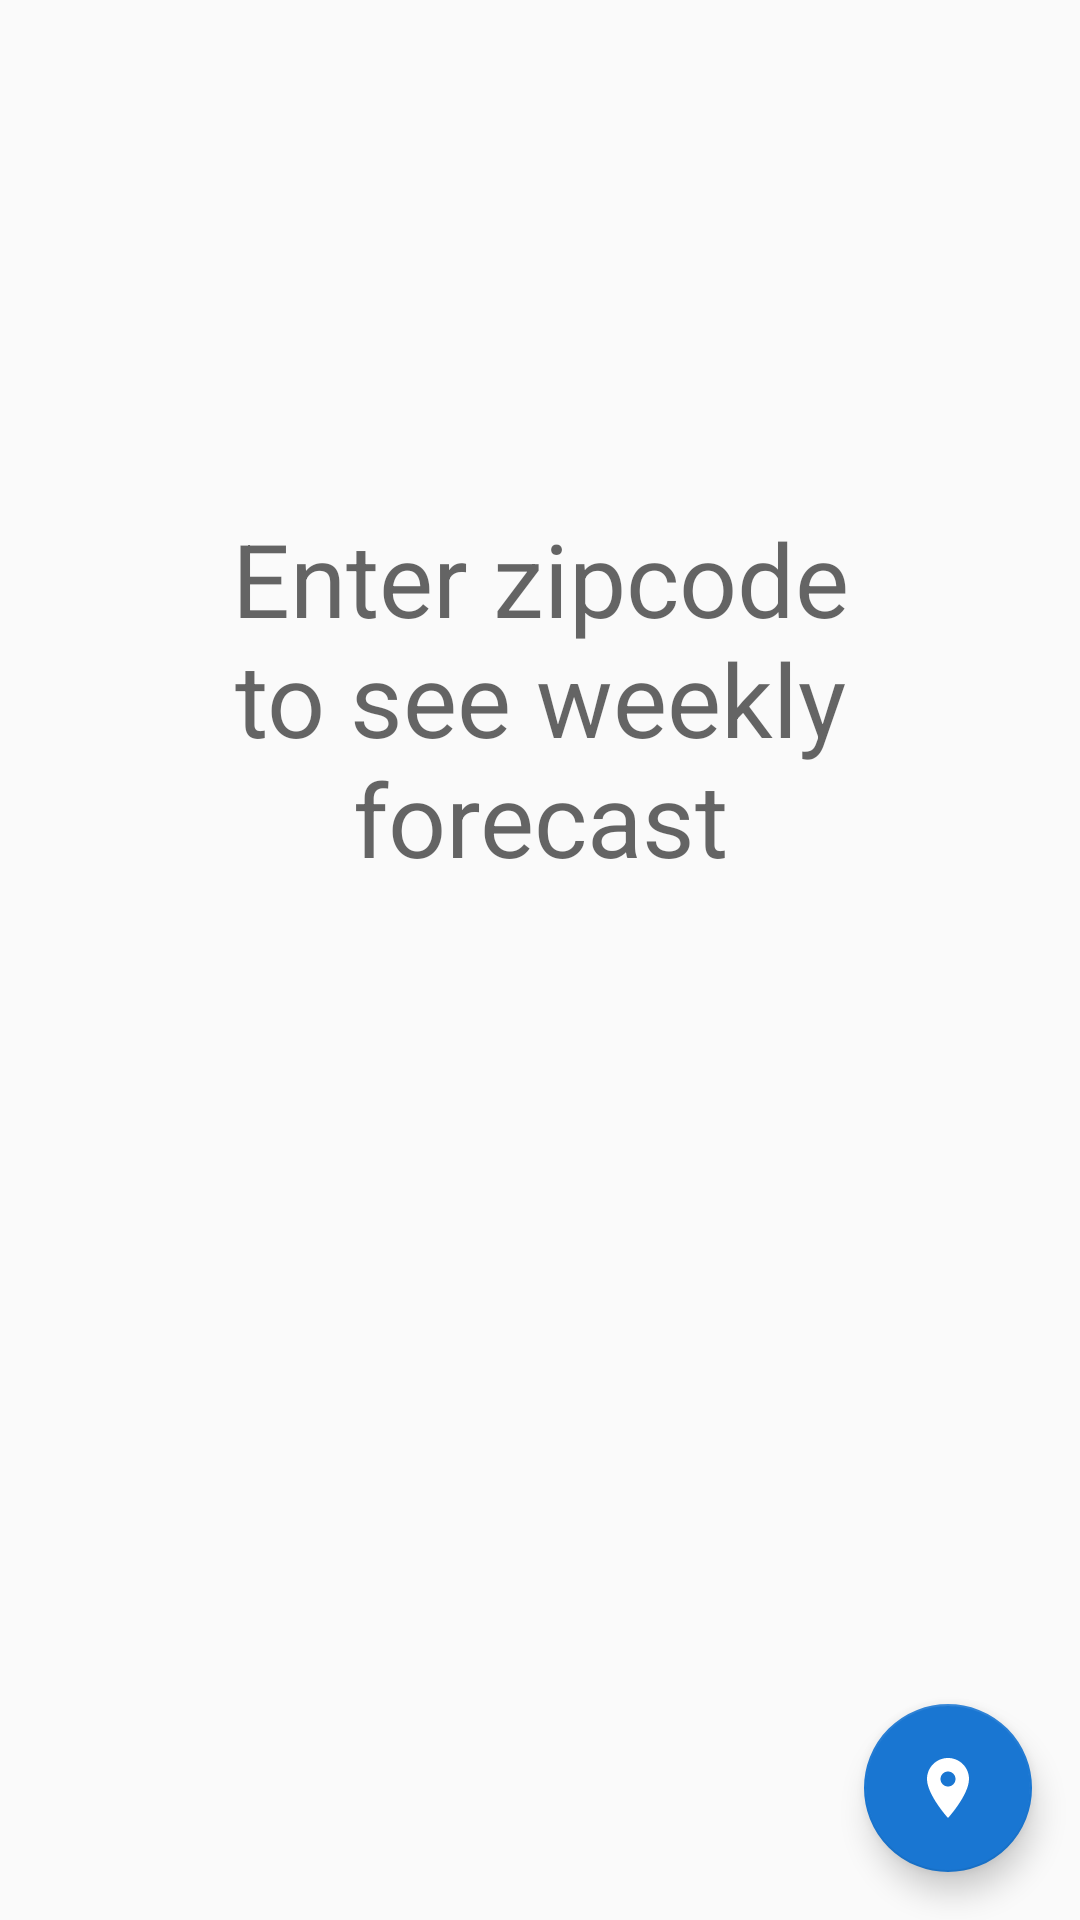

Named icons in this screenshot (1080 × 1920) and their bounding boxes, [x1,y1,x2,y2]:
location on: [864,1704,1032,1872]
